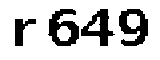4: (82, 4, 115, 48)
6: (46, 5, 80, 48)
9: (117, 7, 150, 51)
r: (10, 15, 39, 49)
